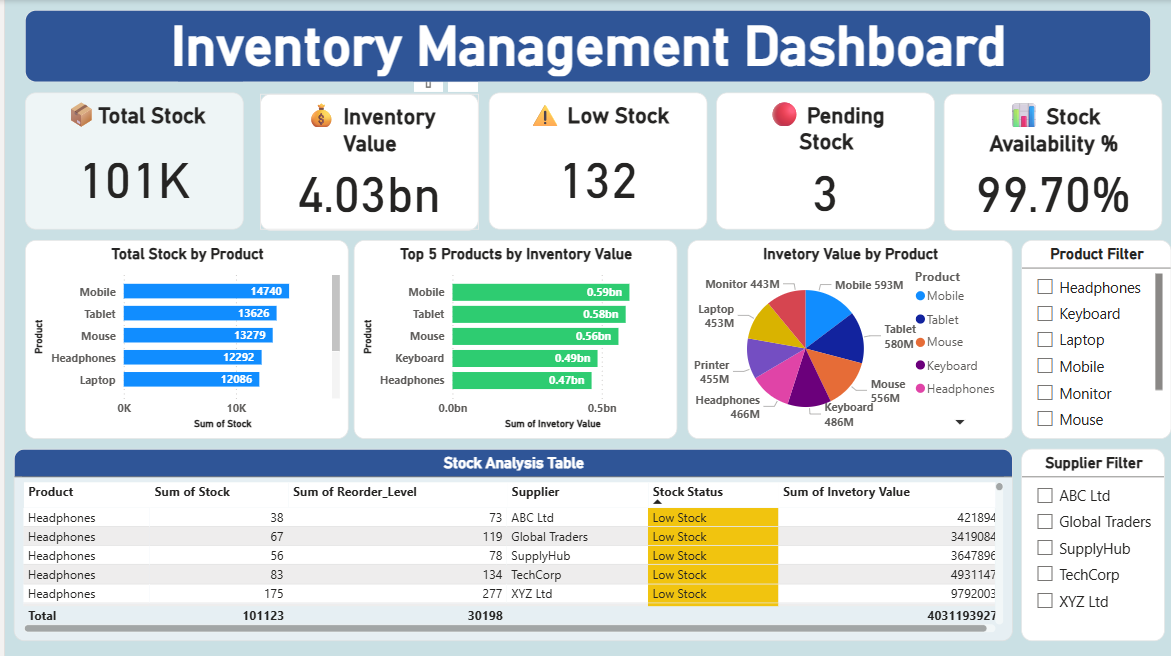

The page's visual inventory and layout, read from the dashboard file:
{"tool":"powerbi","page":{"name":"Page 1","canvas":[1280,720],"ordinal":0},"visuals":[{"type":"card","title":"📦Total Stock","fields":{"Values":["Inventory.Total Stock"]},"box":[22,101.5,240.1,150],"z":0},{"type":"card","title":"💰 Inventory Value","fields":{"Values":["Inventory.Total Inventory Value"]},"box":[279.9,102.9,240.1,150],"z":1000},{"type":"card","title":"⚠️ Low Stock ","fields":{"Values":["Inventory.Low Stock Count"]},"box":[531,101.5,240,150],"z":2000},{"type":"card","title":"📊 Stock Availability %","fields":{"Values":["Inventory.Stock Availability %"]},"box":[1030.5,102.9,240,150],"z":3000},{"type":"textbox","title":"Inventory Management Dashboard","box":[22,11,1236.4,79.6],"z":4000},{"type":"clusteredBarChart","title":"Total Stock by Product","fields":{"Category":["Inventory.Product"],"Y":["Sum(Inventory.Stock)"]},"box":[22,263.5,355.4,218.2],"z":5000},{"type":"clusteredBarChart","title":"Top 5 Products by Inventory Value","fields":{"Category":["Inventory.Product"],"Y":["Sum(Inventory.Invetory Value)"]},"box":[382.8,263.5,355.4,218.2],"z":6000},{"type":"tableEx","title":"Stock Analysis Table","fields":{"Values":["Inventory.Product","Sum(Inventory.Stock)","Sum(Inventory.Reorder_Level)","Inventory.Supplier","Inventory.Stock Status","Sum(Inventory.Invetory Value)"]},"box":[9.6,492.6,1096.4,211.3],"z":7000},{"type":"pieChart","title":"Invetory Value by Product","fields":{"Category":["Inventory.Product"],"Y":["Sum(Inventory.Invetory Value)"]},"box":[749.2,263.5,356.8,218.2],"z":8000},{"type":"slicer","title":"Product Filter","fields":{"Values":["Inventory.Product"]},"box":[1115.6,263.5,164.7,218.2],"z":9000},{"type":"slicer","title":"Supplier Filter","fields":{"Values":["Inventory.Supplier"]},"box":[1115.6,492.6,157.8,211.3],"z":10000},{"type":"card","title":"🔴 Pending Stock","fields":{"Values":["Inventory.Pending_Stock"]},"box":[780.8,101.5,240.1,150],"z":11000}]}

Visuals, with their boxes in screenshot pixels (x1, y1, x2, y2), scaled from the page's 1280x720 canvas onto the 1171x656 screenshot:
"📦Total Stock" card: <bbox>20, 92, 240, 229</bbox>
"💰 Inventory Value" card: <bbox>256, 94, 476, 230</bbox>
"⚠️ Low Stock " card: <bbox>486, 92, 705, 229</bbox>
"📊 Stock Availability %" card: <bbox>943, 94, 1162, 230</bbox>
"Inventory Management Dashboard" textbox: <bbox>20, 10, 1151, 83</bbox>
"Total Stock by Product" clusteredBarChart: <bbox>20, 240, 345, 439</bbox>
"Top 5 Products by Inventory Value" clusteredBarChart: <bbox>350, 240, 675, 439</bbox>
"Stock Analysis Table" tableEx: <bbox>9, 449, 1012, 641</bbox>
"Invetory Value by Product" pieChart: <bbox>685, 240, 1012, 439</bbox>
"Product Filter" slicer: <bbox>1021, 240, 1170, 439</bbox>
"Supplier Filter" slicer: <bbox>1021, 449, 1165, 641</bbox>
"🔴 Pending Stock" card: <bbox>714, 92, 934, 229</bbox>
